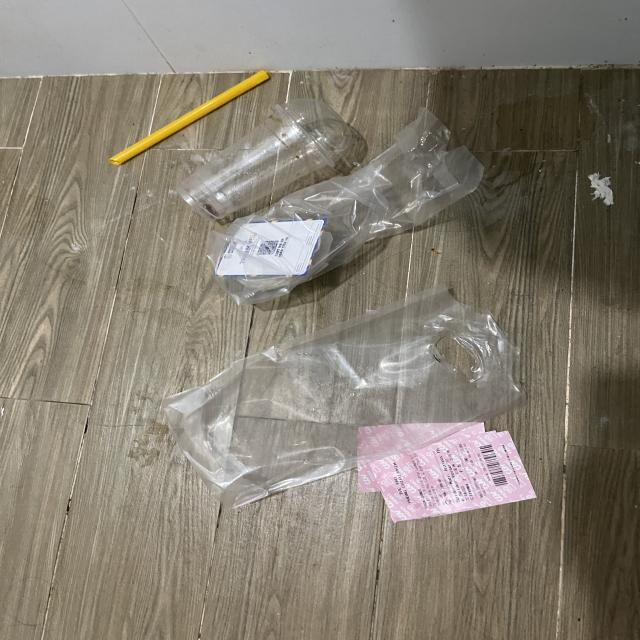bag: (162, 280, 528, 508)
drinking straw: (108, 70, 270, 165)
paper: (358, 423, 536, 524)
plastic glass: (175, 98, 353, 222)
trash bag: (207, 108, 485, 305)
